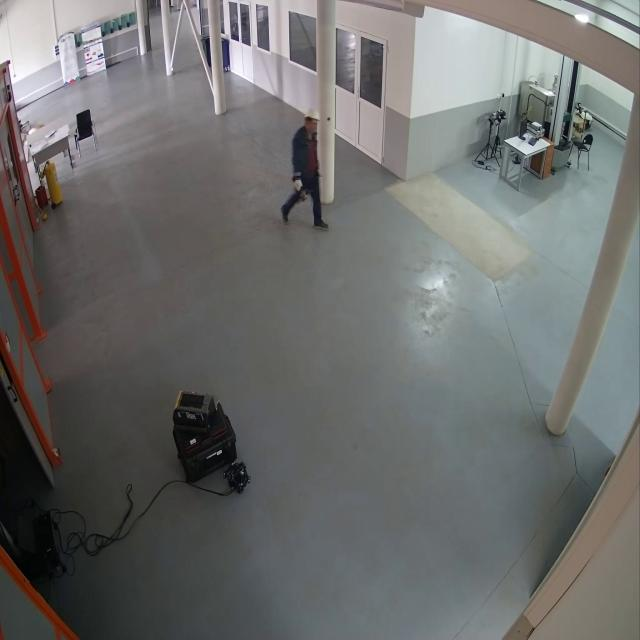Hardhat: (304, 106, 323, 122)
Person: (278, 103, 328, 230)
